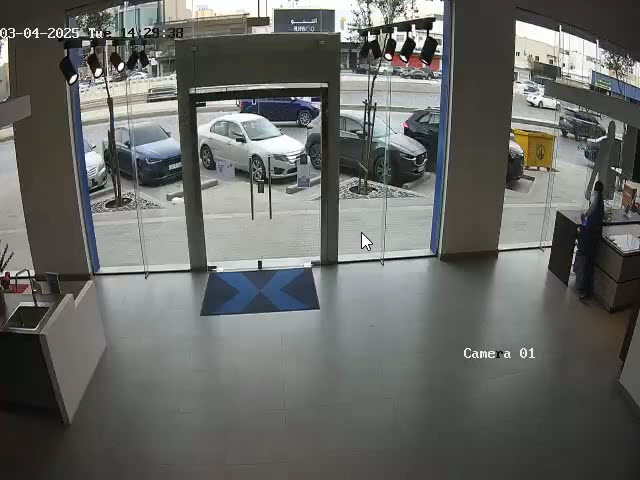employee: (573, 180, 604, 302)
